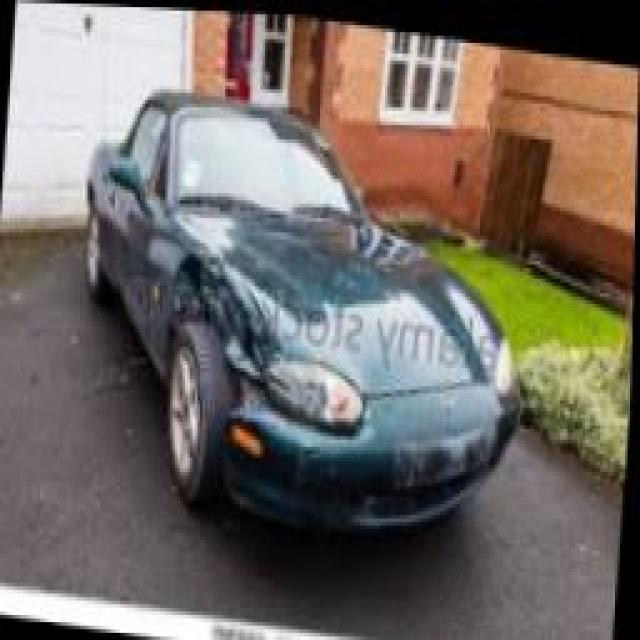replaceable: (170, 237, 272, 393)
